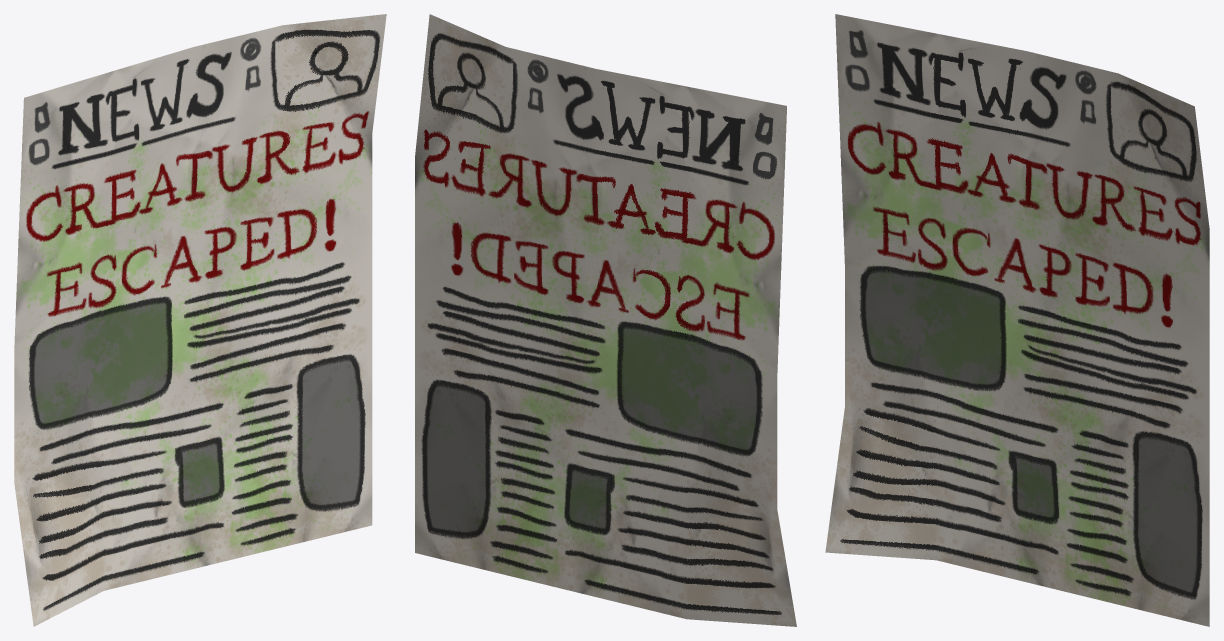
The model's file is Newspaper.fbx.
3 views of the same model, side by side, from view 1: azimuth 30°, elevation 25°; view 2: azimuth 150°, elevation 25°; view 3: azimuth 330°, elevation 25° (orthographic).
Visible parts, largest first — view 1: Plane001; view 2: Plane001; view 3: Plane001.
Boxes of the visible parts, <box> form: Plane001: <box>14,14,386,626</box>; Plane001: <box>415,14,796,626</box>; Plane001: <box>825,14,1209,626</box>.
Bounding box in the file's own units: 43.19 × 60.17 × 4.06.
1 material, 1 textured.
